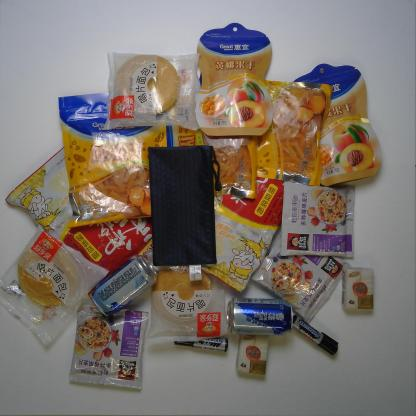Alcohol: (86, 257, 162, 317), (230, 298, 296, 344)
Dessert: (2, 224, 102, 351), (103, 48, 211, 136), (150, 261, 226, 331)
Dried Fruit: (58, 88, 205, 226), (199, 69, 326, 192), (284, 63, 392, 203), (196, 19, 273, 138), (163, 114, 263, 205)
Instant Drink: (9, 144, 155, 275), (192, 167, 302, 292), (252, 231, 356, 316), (68, 304, 161, 396), (278, 180, 366, 260)
Stationery: (146, 143, 232, 269), (295, 314, 346, 363), (175, 331, 243, 363)
Tissue: (340, 266, 400, 329), (232, 335, 277, 386)
